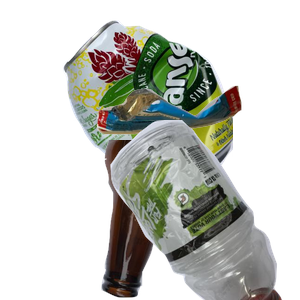glass: (99, 140, 300, 300)
metal: (60, 18, 300, 198)
plastic: (73, 120, 300, 300)
trash: (94, 83, 300, 210)
